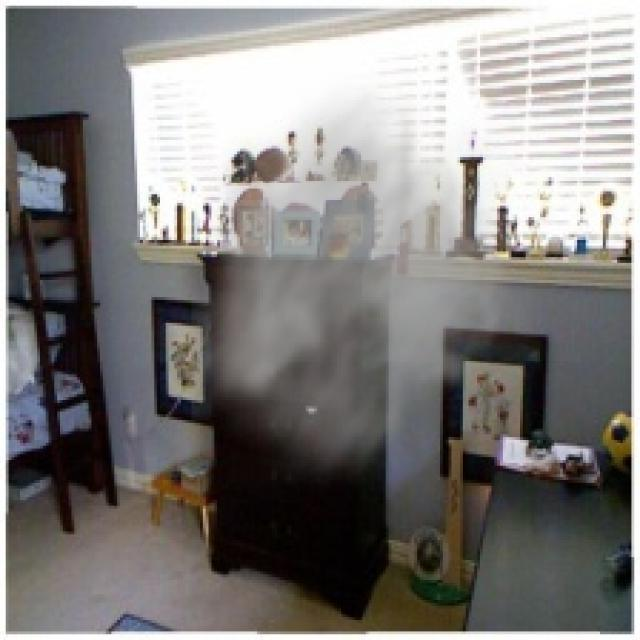Smoke: (191, 72, 546, 497)
